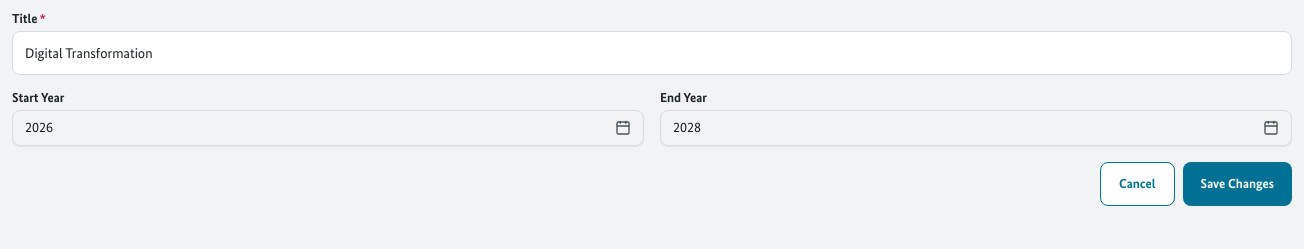
Test: EditPortfolioForm — validation › shows required error when name is cleared and form is submitted
Clear the field labelled "Title*" at x=652, y=53, box [12,31,1292,75]
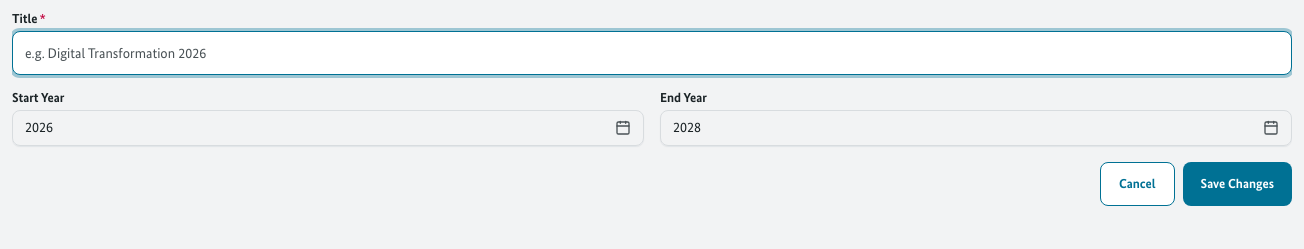
Click the button "Save Changes" at x=1237, y=184, box [1183,162,1292,206]
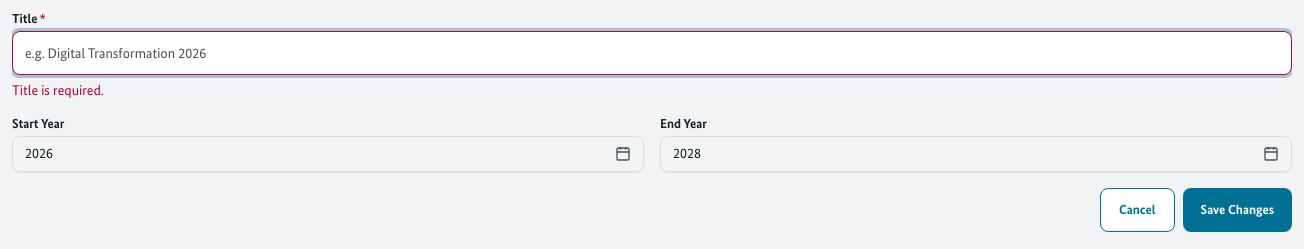
Now the message shows "Title is required", box [12,82,104,99]
